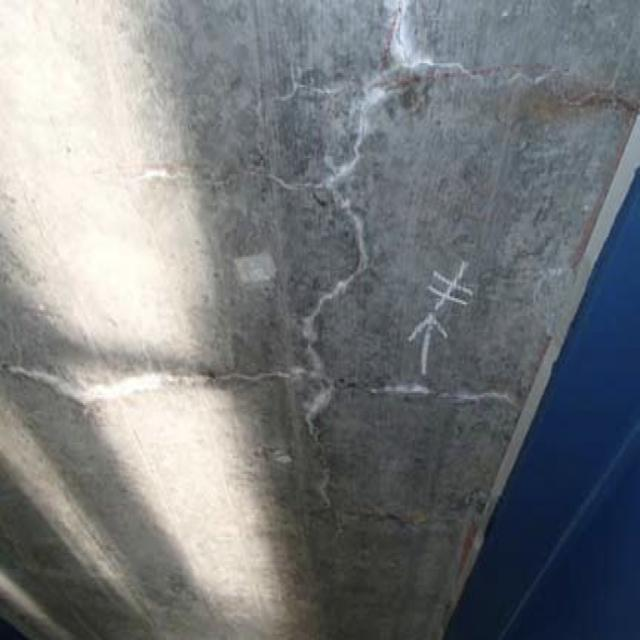crack: (137, 12, 620, 304), (10, 347, 510, 542)
